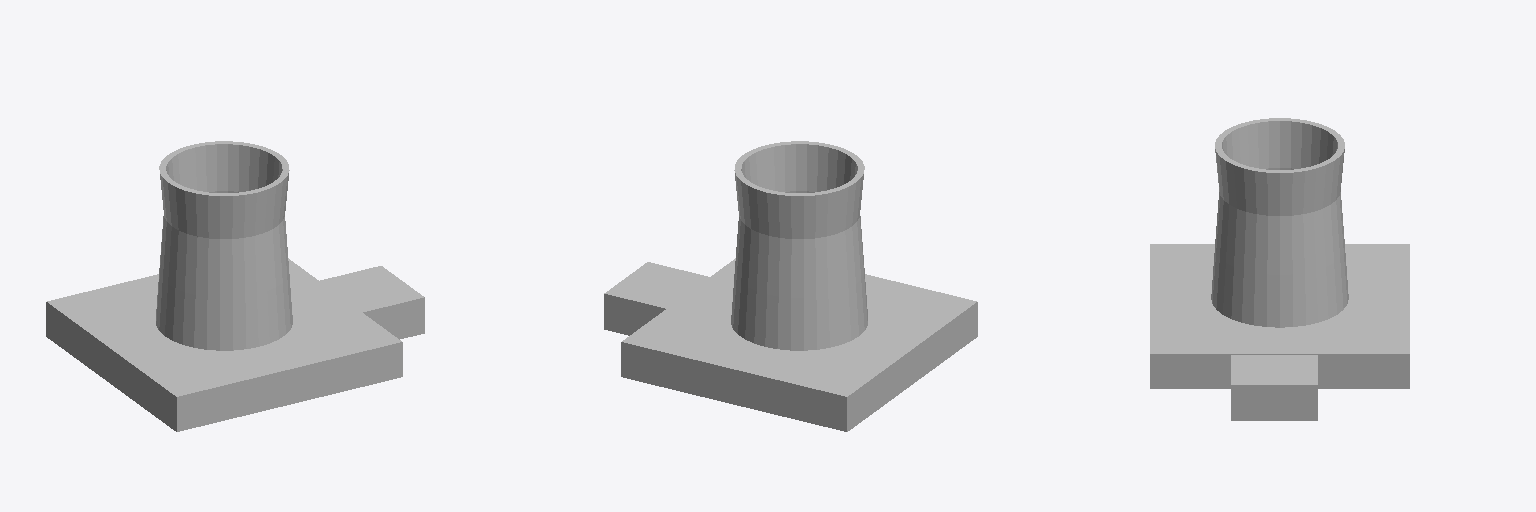
Rendered from industria.obj.
3 renders of one model, left to right at view 1: azimuth 30°, elevation 25°; view 2: azimuth 150°, elevation 25°; view 3: azimuth 270°, elevation 25°, orthographic.
Visible parts, largest first — view 1: Industria_Cube.011; view 2: Industria_Cube.011; view 3: Industria_Cube.011.
Boxes of the visible parts, x1,y1,x2,y2 form: Industria_Cube.011: [46, 141, 424, 431]; Industria_Cube.011: [604, 141, 977, 431]; Industria_Cube.011: [1150, 118, 1409, 420].
Bounding box in the file's own units: 2.56 × 1.61 × 2.